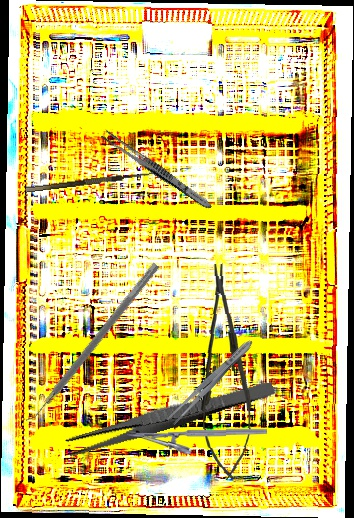Dressing Forceps: (64, 374, 276, 459), (99, 128, 215, 213), (165, 335, 257, 428)
Hook Surgical: (24, 162, 167, 193)
Needle Holder: (192, 262, 258, 481), (126, 427, 268, 457)
Spatula Surgical: (20, 256, 161, 428)
